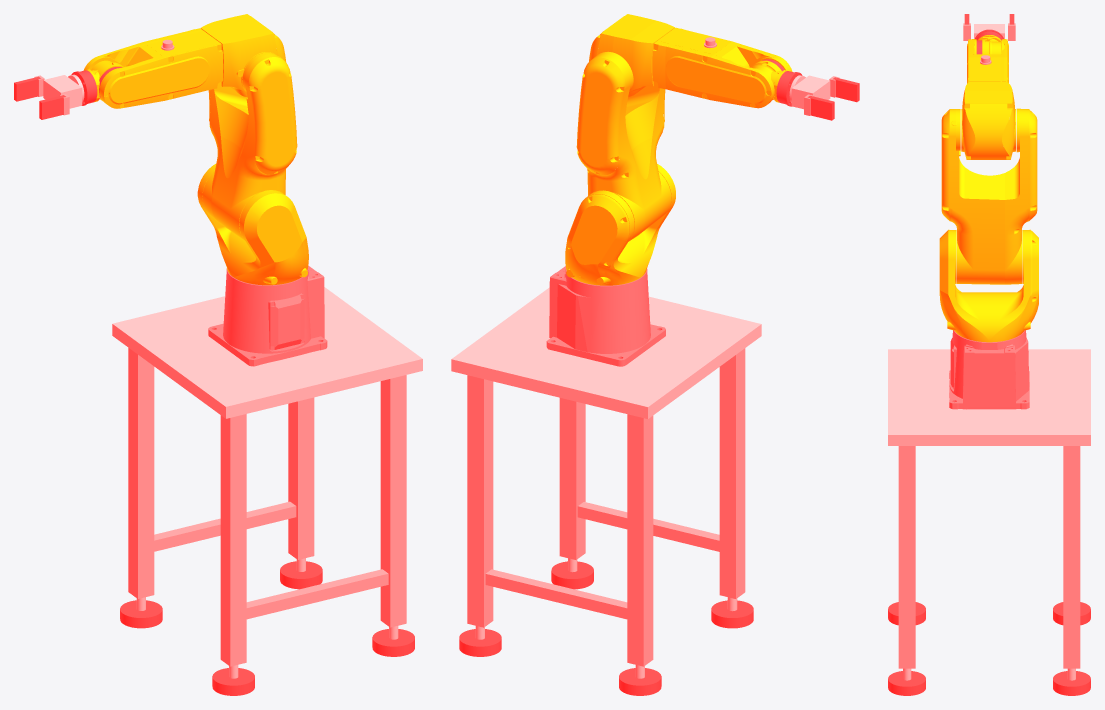
The model's file is robot.glb.
The picture shows the model from 3 angles, left to right: view 1: azimuth 30°, elevation 25°; view 2: azimuth 150°, elevation 25°; view 3: azimuth 270°, elevation 25°; orthographic projection. The views are drawn at different scales.
Visible parts, largest first — view 1: Robot 1 table | platform, Robot 1 table | leg, Robot 1 table | leg.002, Robot 1 table | leg.001, Shape15_node, Shape1_node, Shape9_node, Robot 1 table | leg.003, Shape4_node, Shape8_node, Shape7_node, Shape5_node (+12 smaller); view 2: Robot 1 table | platform, Shape_node, Robot 1 table | leg.001, Robot 1 table | leg.003, Robot 1 table | leg, Shape15_node, Shape8_node, Shape3_node, Robot 1 table | leg.002, Shape7_node, Robot 1 table | low leg tie.001, Shape13_node (+11 smaller); view 3: Robot 1 table | platform, Shape_node, Shape8_node, Shape4_node, Shape7_node, Robot 1 table | leg.002, Robot 1 table | leg.003, Shape12_node, Shape9_node, Shape3_node, Shape15_node, Shape13_node (+5 smaller).
Part boxes in pixels (x1,y1,x2,y2): Robot 1 table | platform: (112,287,422,418); Robot 1 table | leg: (220,414,246,666); Robot 1 table | leg.002: (380,375,406,627); Robot 1 table | leg.001: (128,348,154,598); Shape15_node: (88,28,223,104); Shape1_node: (211,268,309,366); Shape9_node: (242,52,296,165); Robot 1 table | leg.003: (288,397,314,559); Shape4_node: (198,175,308,285); Shape8_node: (208,86,297,180); Shape7_node: (202,125,285,240); Shape5_node: (239,190,291,261); Robot 1 table | platform: (451,287,761,418); Shape_node: (546,266,665,366); Robot 1 table | leg.001: (627,414,653,666); Robot 1 table | leg.003: (467,375,493,627); Robot 1 table | leg: (719,348,745,598); Shape15_node: (652,27,771,108); Shape8_node: (576,74,664,175); Shape3_node: (565,190,634,285); Robot 1 table | leg.002: (559,398,585,559); Shape7_node: (577,148,671,241); Robot 1 table | low leg tie.001: (485,569,627,619); Shape13_node: (599,17,674,81); Robot 1 table | platform: (888,349,1090,445); Shape_node: (949,330,1029,409); Shape8_node: (941,135,1037,235); Shape4_node: (939,239,1020,342); Shape7_node: (957,208,1037,284); Robot 1 table | leg.002: (898,446,915,668); Robot 1 table | leg.003: (1063,446,1080,668); Shape12_node: (961,98,1015,159); Shape9_node: (941,108,1037,209); Shape3_node: (1014,229,1038,336); Shape15_node: (967,39,1008,83); Shape13_node: (961,82,1015,116).
Bounding box in the file's own units: 0.824 × 1.44 × 0.48.
